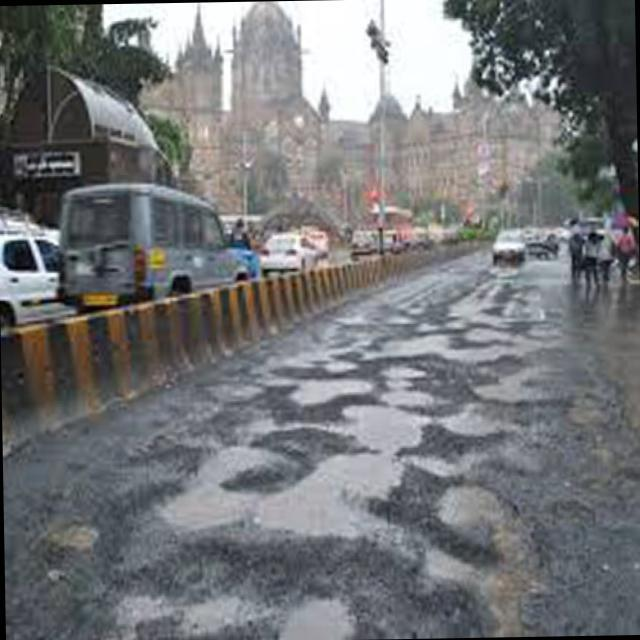Pothole: (262, 396, 426, 555), (389, 268, 573, 381), (157, 427, 266, 536), (267, 585, 396, 640), (389, 446, 519, 494), (400, 522, 470, 609), (116, 585, 250, 629), (462, 366, 566, 412), (256, 370, 372, 410), (430, 401, 526, 446), (285, 331, 367, 381), (424, 485, 494, 538), (380, 362, 430, 391)
